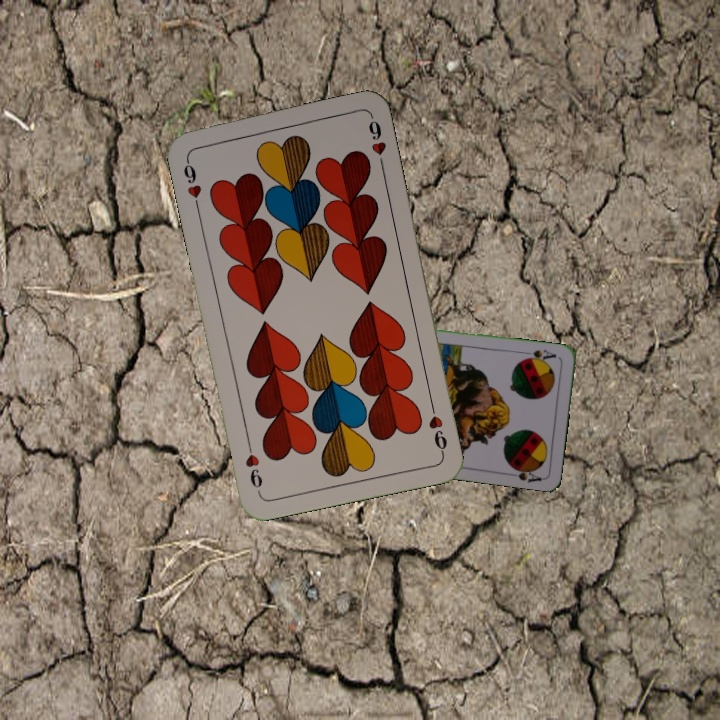H9: (424, 398, 450, 457), (179, 153, 204, 212)
SA: (519, 345, 559, 365)
